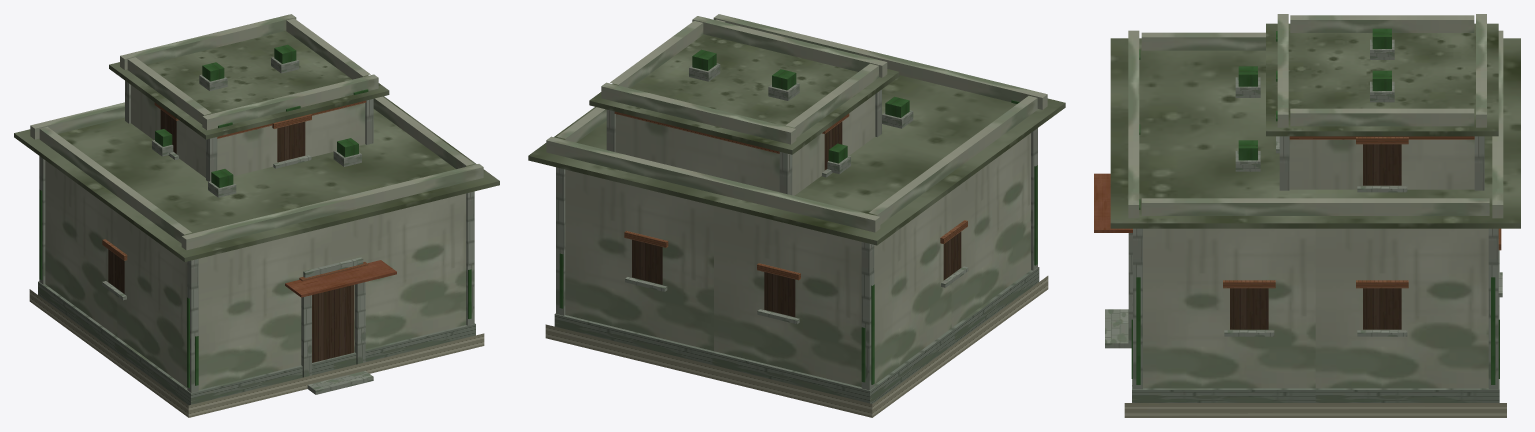
The model's file is ae_jungle_stone_large_terrace_lod0.glb.
3 views of the same model, side by side, from view 1: azimuth 30°, elevation 25°; view 2: azimuth 150°, elevation 25°; view 3: azimuth 270°, elevation 25° (orthographic). The views are drawn at different scales.
Visible parts, largest first — view 1: ae_jungle_stone_large_terrace_lod0; view 2: ae_jungle_stone_large_terrace_lod0; view 3: ae_jungle_stone_large_terrace_lod0.
Part boxes in pixels (x1=…): ae_jungle_stone_large_terrace_lod0: x1=14, y1=14, x2=499, y2=417; ae_jungle_stone_large_terrace_lod0: x1=528, y1=14, x2=1065, y2=417; ae_jungle_stone_large_terrace_lod0: x1=1094, y1=14, x2=1520, y2=417.
Size of the model in its own units: 7.9 by 5.76 by 7.7.
Materials: 1 (1 with a texture image).
